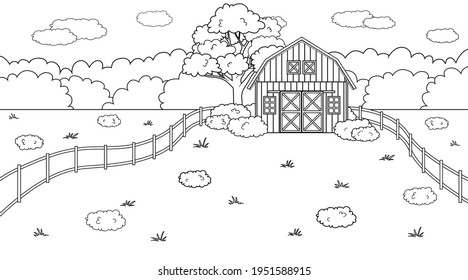building: (244, 36, 360, 138)
tree: (184, 1, 291, 110)
